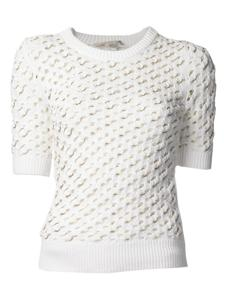C_cardigan sweater: (7, 27, 216, 283)
